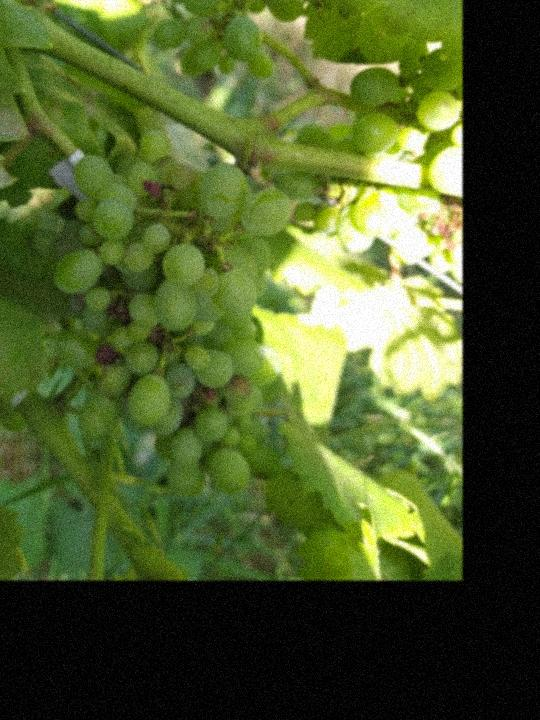grape: (27, 126, 325, 529), (154, 0, 307, 85)
